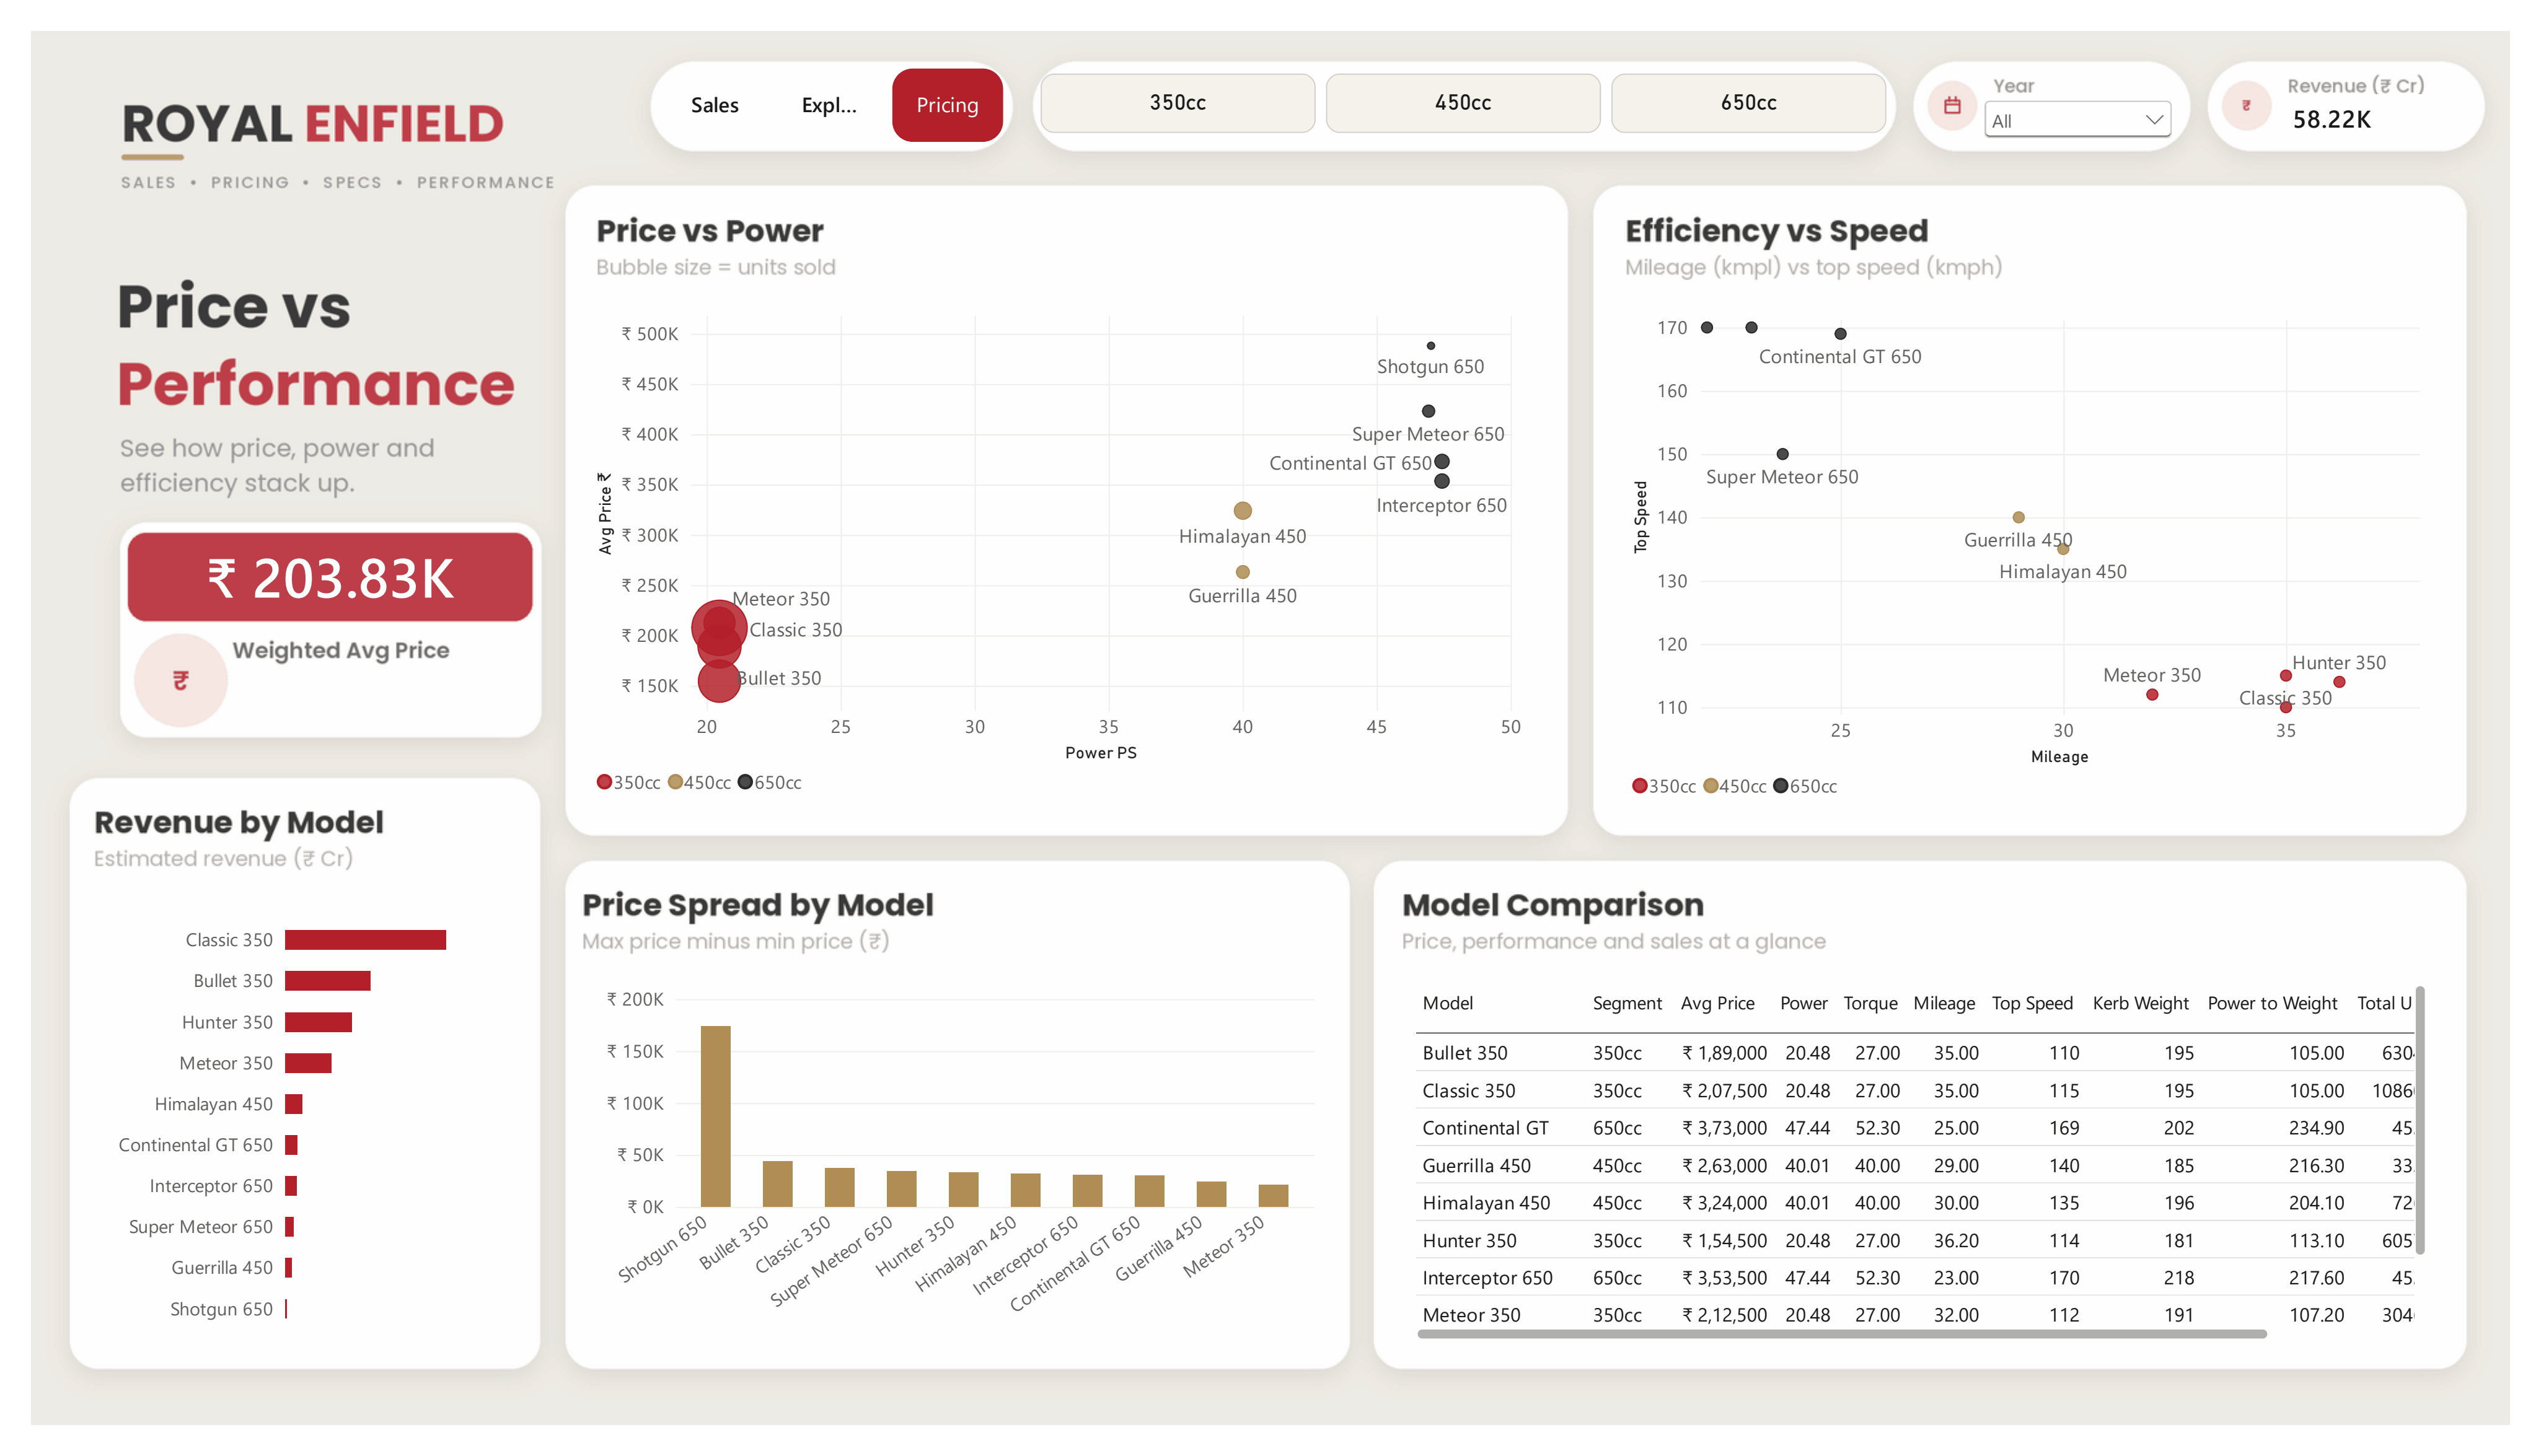

The dashboard page shown, as its layout file describes it:
{"tool":"powerbi","page":{"name":"Pricing","canvas":[1920,1080],"ordinal":2},"visuals":[{"type":"pageNavigator","box":[486.8,28.6,268,57],"z":0},{"type":"cardVisual","fields":{"Data":["Fact_Sales.Avg Selling Price"]},"box":[75.5,386.5,313,68],"z":2000},{"type":"cardVisual","fields":{"Data":["Fact_Sales.Est Revenue Cr"]},"box":[1736.2,48.8,148,36],"z":3000},{"type":"clusteredBarChart","fields":{"Category":["Dim_Bike.Model"],"Y":["Fact_Sales.Est Revenue Cr"]},"box":[45,662,334,365],"z":4000},{"type":"scatterChart","fields":{"Category":["Dim_Bike.Model"],"Series":["Dim_Bike.Segment"],"Size":["Fact_Sales.Total Units"],"X":["Dim_Bike.Power"],"Y":["Dim_Bike.Avg Price"]},"box":[422,196.7,748,415],"z":5000},{"type":"scatterChart","fields":{"Category":["Dim_Bike.Model"],"Series":["Dim_Bike.Segment"],"X":["Dim_Bike.Mileage"],"Y":["Dim_Bike.Top Speed"]},"box":[1224,200,650,415],"z":6000},{"type":"clusteredColumnChart","fields":{"Category":["Dim_Bike.Model"],"Y":["Avg(Dim_Bike.Price Spread)"]},"box":[430,725,580,305],"z":7000},{"type":"tableEx","fields":{"Values":["Dim_Bike.Model","Dim_Bike.Segment","Dim_Bike.Avg Price","Dim_Bike.Power","Dim_Bike.Torque","Dim_Bike.Mileage","Dim_Bike.Top Speed","Dim_Bike.Kerb Weight","Dim_Bike.Power to Weight","Fact_Sales.Total Units","Fact_Sales.Est Revenue Cr"]},"box":[1056,725,815,305],"z":8000},{"type":"advancedSlicerVisual","fields":{"Values":["Dim_Bike.Segment"]},"box":[782.2,33.1,655.2,46],"z":10000},{"type":"slicer","fields":{"Values":["Dim_Date.Year"]},"box":[1508,49.3,154.6,42],"z":10001}]}

Visuals, with their boxes on the page's 1920x1080 design canvas (x1, y1, x2, y2). These are canvas units, not pixel positions in the 2541x1456 screenshot, which may show the page scaled, cropped or inside an application window:
pageNavigator: BBox(487, 29, 755, 86)
cardVisual - Fact_Sales.Avg Selling Price: BBox(76, 386, 388, 454)
cardVisual - Fact_Sales.Est Revenue Cr: BBox(1736, 49, 1884, 85)
clusteredBarChart - Dim_Bike.Model x Fact_Sales.Est Revenue Cr: BBox(45, 662, 379, 1027)
scatterChart - Dim_Bike.Model x Dim_Bike.Segment: BBox(422, 197, 1170, 612)
scatterChart - Dim_Bike.Model x Dim_Bike.Segment: BBox(1224, 200, 1874, 615)
clusteredColumnChart - Dim_Bike.Model x Avg(Dim_Bike.Price Spread): BBox(430, 725, 1010, 1030)
tableEx - Dim_Bike.Model x Dim_Bike.Segment: BBox(1056, 725, 1871, 1030)
advancedSlicerVisual - Dim_Bike.Segment: BBox(782, 33, 1437, 79)
slicer - Dim_Date.Year: BBox(1508, 49, 1663, 91)
